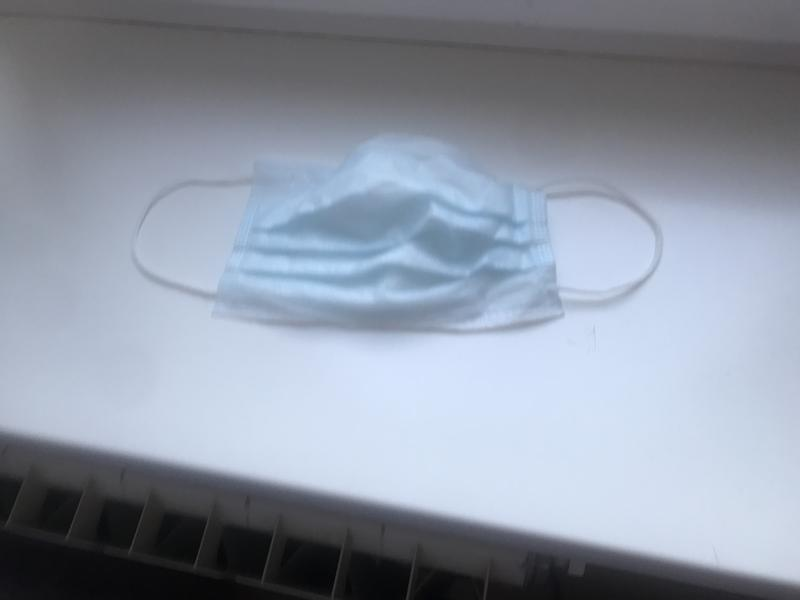medical_mask: (130, 134, 664, 329)
